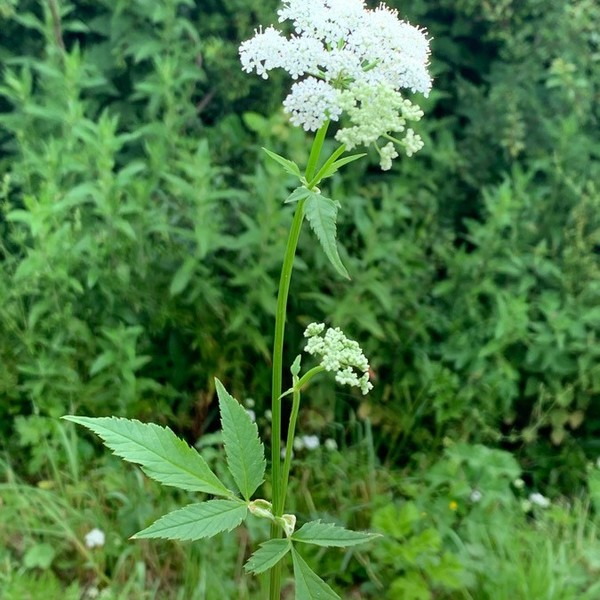obstacle: (199, 1, 426, 549), (75, 374, 353, 588)
